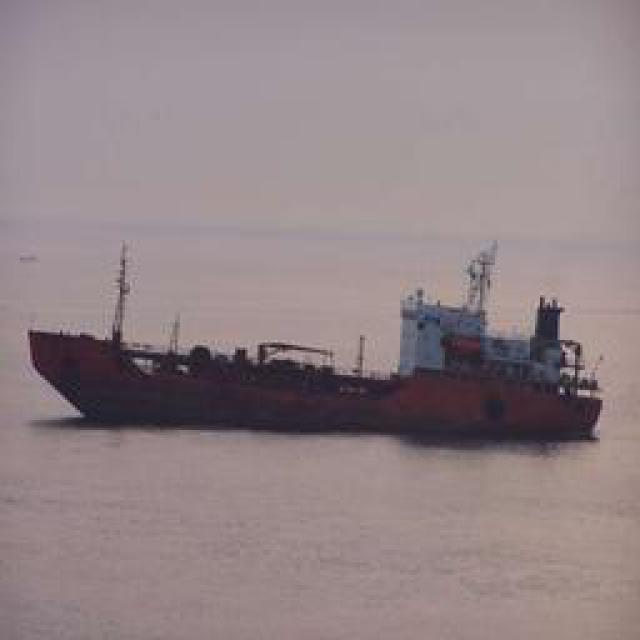Ship: (26, 243, 616, 438)
